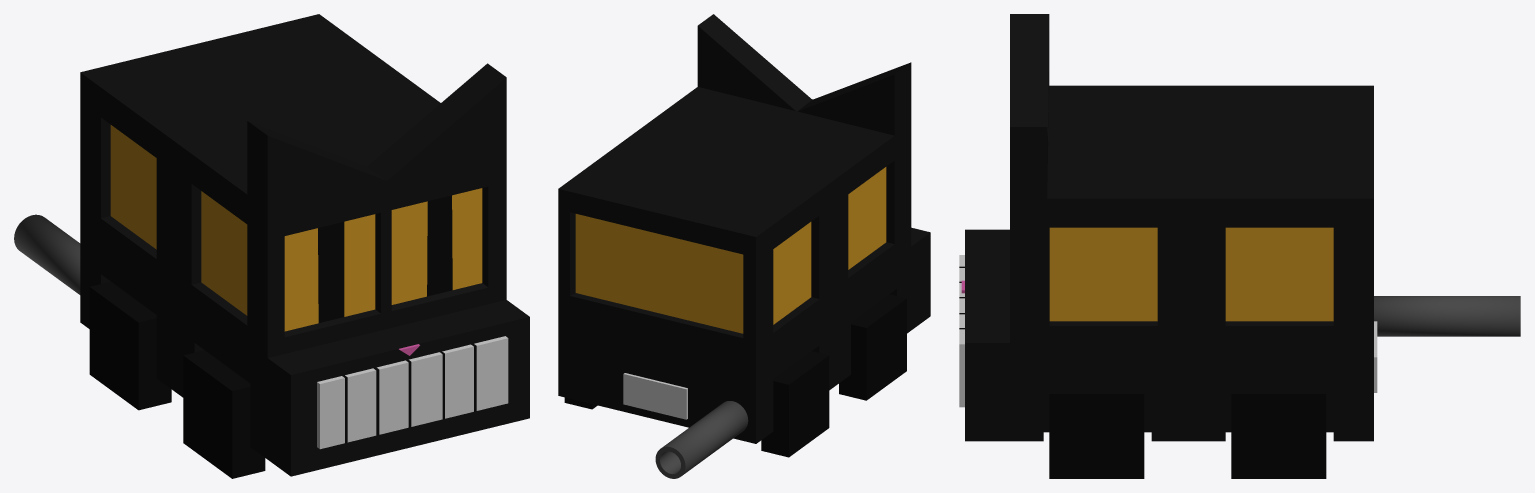
File: BlackCar.FBX
3 views of the same model, side by side, from view 1: azimuth 30°, elevation 25°; view 2: azimuth 150°, elevation 25°; view 3: azimuth 270°, elevation 25° (orthographic). The views are drawn at different scales.
Visible parts, largest first — view 1: Cube, Cube.004, Cube.003, Circle; view 2: Cube, Cube.004, Cube.003, Circle; view 3: Cube, Cube.001, Cube.002, Circle.
Part boxes in pixels (x1,y1,x2,y2): Cube: (80,14,529,476); Cube.004: (89,281,171,410); Cube.003: (183,350,265,478); Circle: (14,214,80,294); Cube: (558,14,930,443); Cube.004: (761,351,829,457); Cube.003: (839,294,906,400); Circle: (655,401,748,478); Cube: (959,14,1377,441); Cube.001: (1231,380,1326,478); Cube.002: (1049,380,1144,478); Circle: (1374,296,1520,336).
Size of the model in its own units: 116 by 145 by 215.
